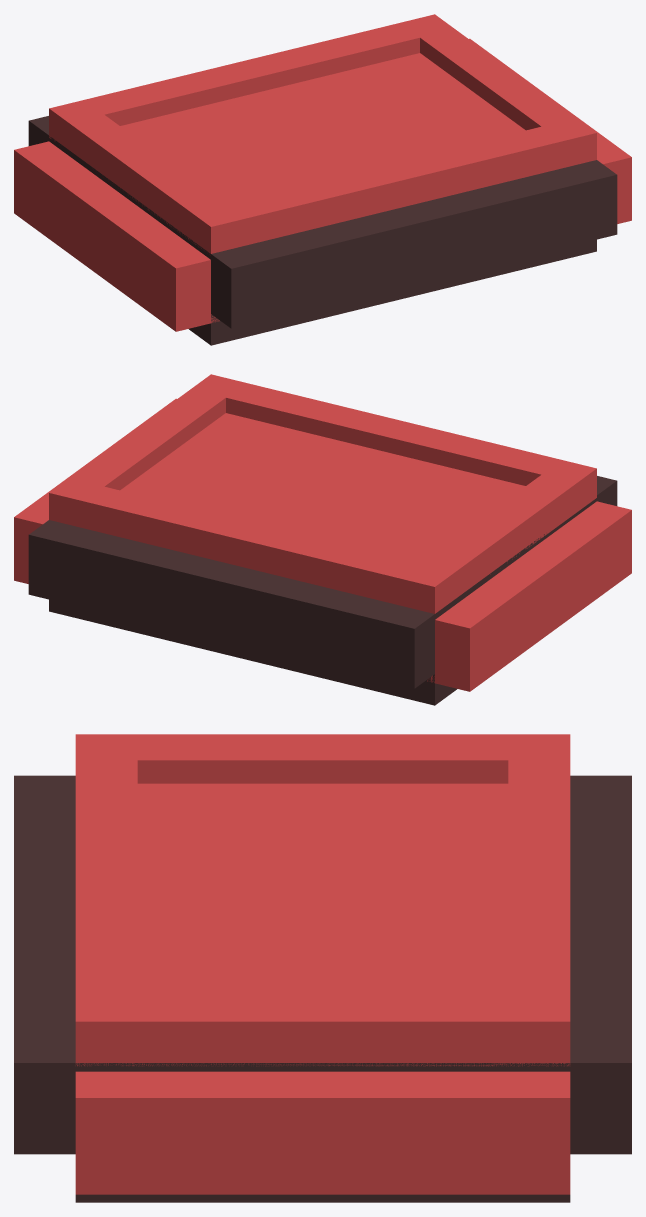
The model's file is CMU3DCMSoapSyndieInheritedMiscCloud.glb.
The picture shows the model from 3 angles, top to bottom: view 1: azimuth 30°, elevation 25°; view 2: azimuth 150°, elevation 25°; view 3: azimuth 270°, elevation 25°; orthographic projection. The views are drawn at different scales.
Visible parts, largest first — view 1: upper rounded rectangle, recessed top, middle soap body, raised soap perimeter bottom, raised soap perimeter top, raised soap perimeter left, raised soap perimeter right, lower bevel foot; view 2: upper rounded rectangle, recessed top, middle soap body, raised soap perimeter top, raised soap perimeter bottom, raised soap perimeter left, raised soap perimeter right, lower bevel foot; view 3: recessed top, middle soap body, upper rounded rectangle, raised soap perimeter right, raised soap perimeter top, raised soap perimeter bottom, raised soap perimeter left, lower bevel foot.
Boxes of the visible parts, box(x1,y1,x2,y2) form: upper rounded rectangle: box(28, 116, 617, 328); recessed top: box(120, 53, 525, 203); middle soap body: box(14, 38, 631, 331); raised soap perimeter bottom: box(191, 118, 596, 255); raised soap perimeter top: box(49, 14, 454, 149); raised soap perimeter left: box(69, 114, 225, 240); raised soap perimeter right: box(420, 29, 575, 130); lower bevel foot: box(189, 239, 596, 345); upper rounded rectangle: box(28, 476, 617, 688); recessed top: box(120, 413, 525, 563); middle soap body: box(14, 398, 631, 691); raised soap perimeter top: box(49, 478, 454, 613); raised soap perimeter bottom: box(191, 374, 596, 512); raised soap perimeter left: box(420, 474, 576, 598); raised soap perimeter right: box(70, 389, 225, 490); lower bevel foot: box(49, 599, 456, 705); recessed top: box(137, 783, 508, 995); middle soap body: box(75, 1071, 570, 1194); upper rounded rectangle: box(14, 775, 631, 1154); raised soap perimeter right: box(137, 995, 508, 1066); raised soap perimeter top: box(508, 734, 570, 1066); raised soap perimeter bottom: box(75, 734, 137, 1066); raised soap perimeter left: box(137, 734, 508, 783); lower bevel foot: box(75, 1194, 570, 1202).
Size of the model in its own units: 0.4062 by 0.101 by 0.3125.
